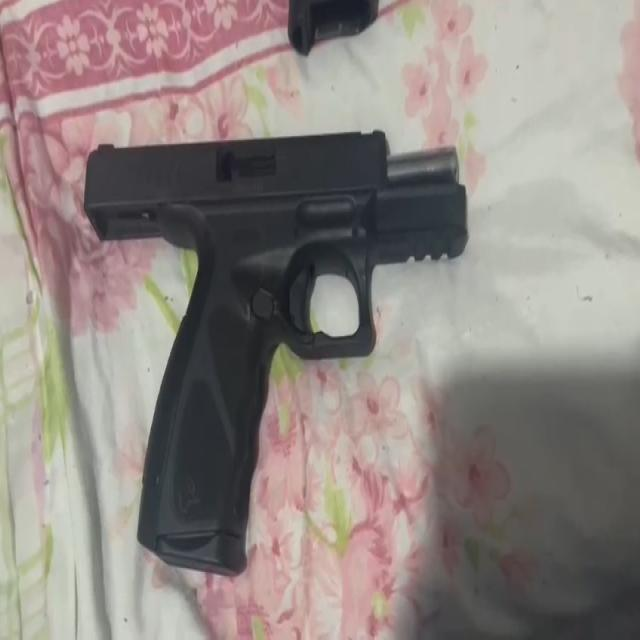gun: (81, 124, 474, 580)
